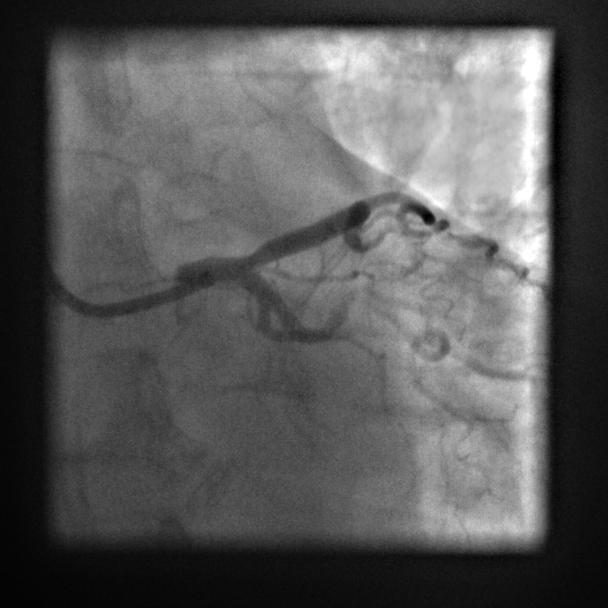Stenosis: (223, 240, 265, 267)
